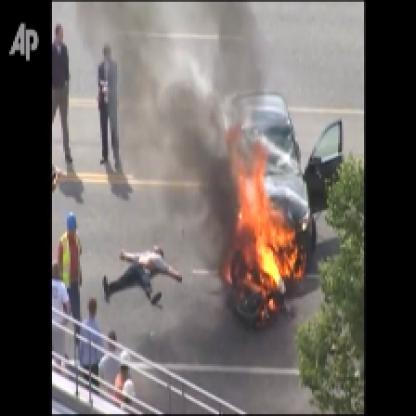Fire: (218, 121, 308, 321)
Smoke: (76, 2, 251, 256)
